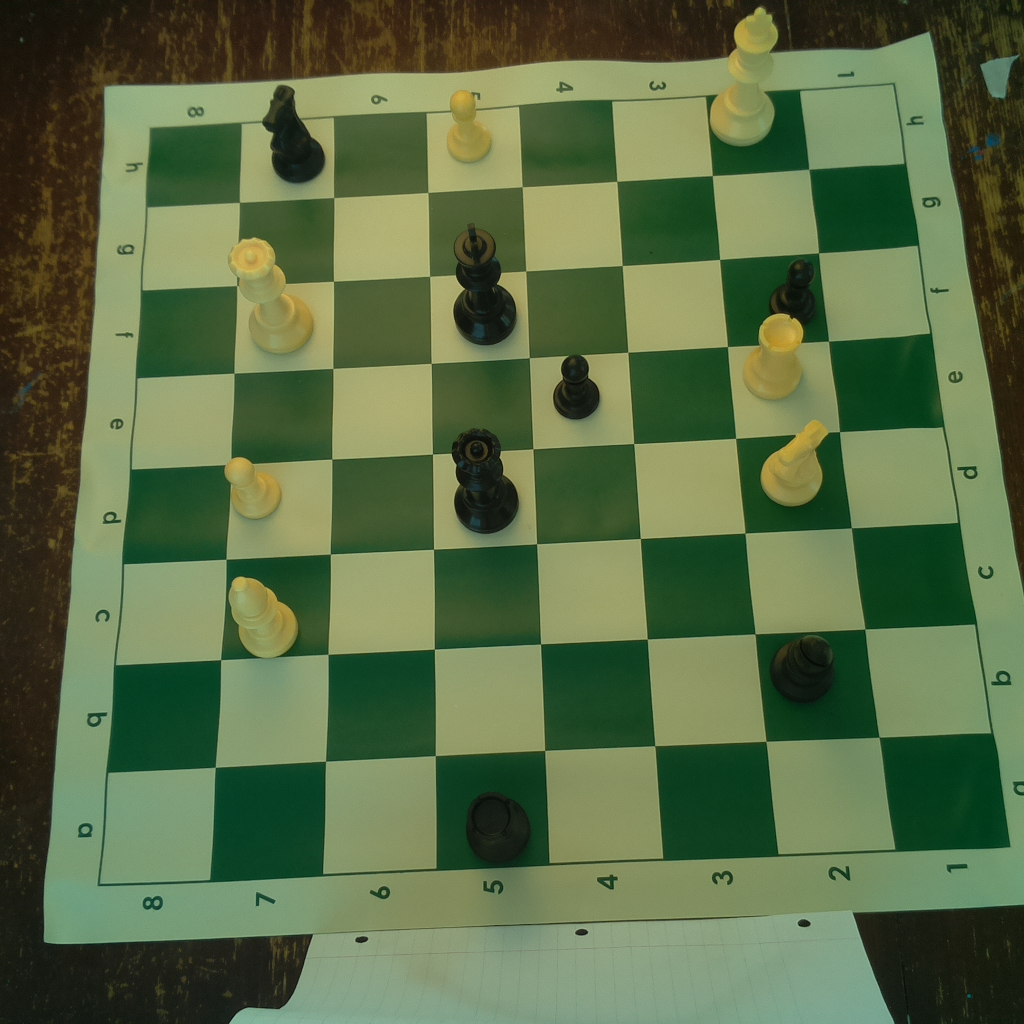black_bishop: (771, 630, 838, 704)
black_king: (446, 218, 519, 345)
black_knight: (251, 80, 329, 182)
black_pawn: (551, 347, 606, 419), (770, 254, 823, 325)
black_queen: (445, 425, 521, 536)
black_rook: (458, 786, 540, 865)
file_a: (98, 734, 1010, 886)
file_b: (106, 623, 992, 775)
file_c: (116, 525, 977, 667)
file_d: (123, 425, 960, 566)
file_e: (132, 336, 940, 469)
file_f: (137, 245, 932, 382)
file_g: (140, 162, 918, 291)
file_h: (146, 86, 907, 212)
outline: (98, 83, 1010, 887)
rank_1: (799, 82, 1011, 851)
rank_2: (707, 92, 897, 854)
rank_3: (612, 96, 780, 858)
rank_4: (519, 101, 663, 864)
rank_5: (425, 106, 550, 870)
rank_6: (320, 117, 437, 871)
rank_7: (210, 122, 332, 879)
rank_8: (97, 121, 242, 887)
white_bishop: (223, 566, 303, 660)
white_king: (710, 1, 781, 144)
white_knight: (754, 414, 831, 510)
white_pawn: (220, 449, 284, 522), (440, 90, 496, 165)
white_queen: (223, 230, 319, 358)
white_rook: (745, 309, 812, 405)
